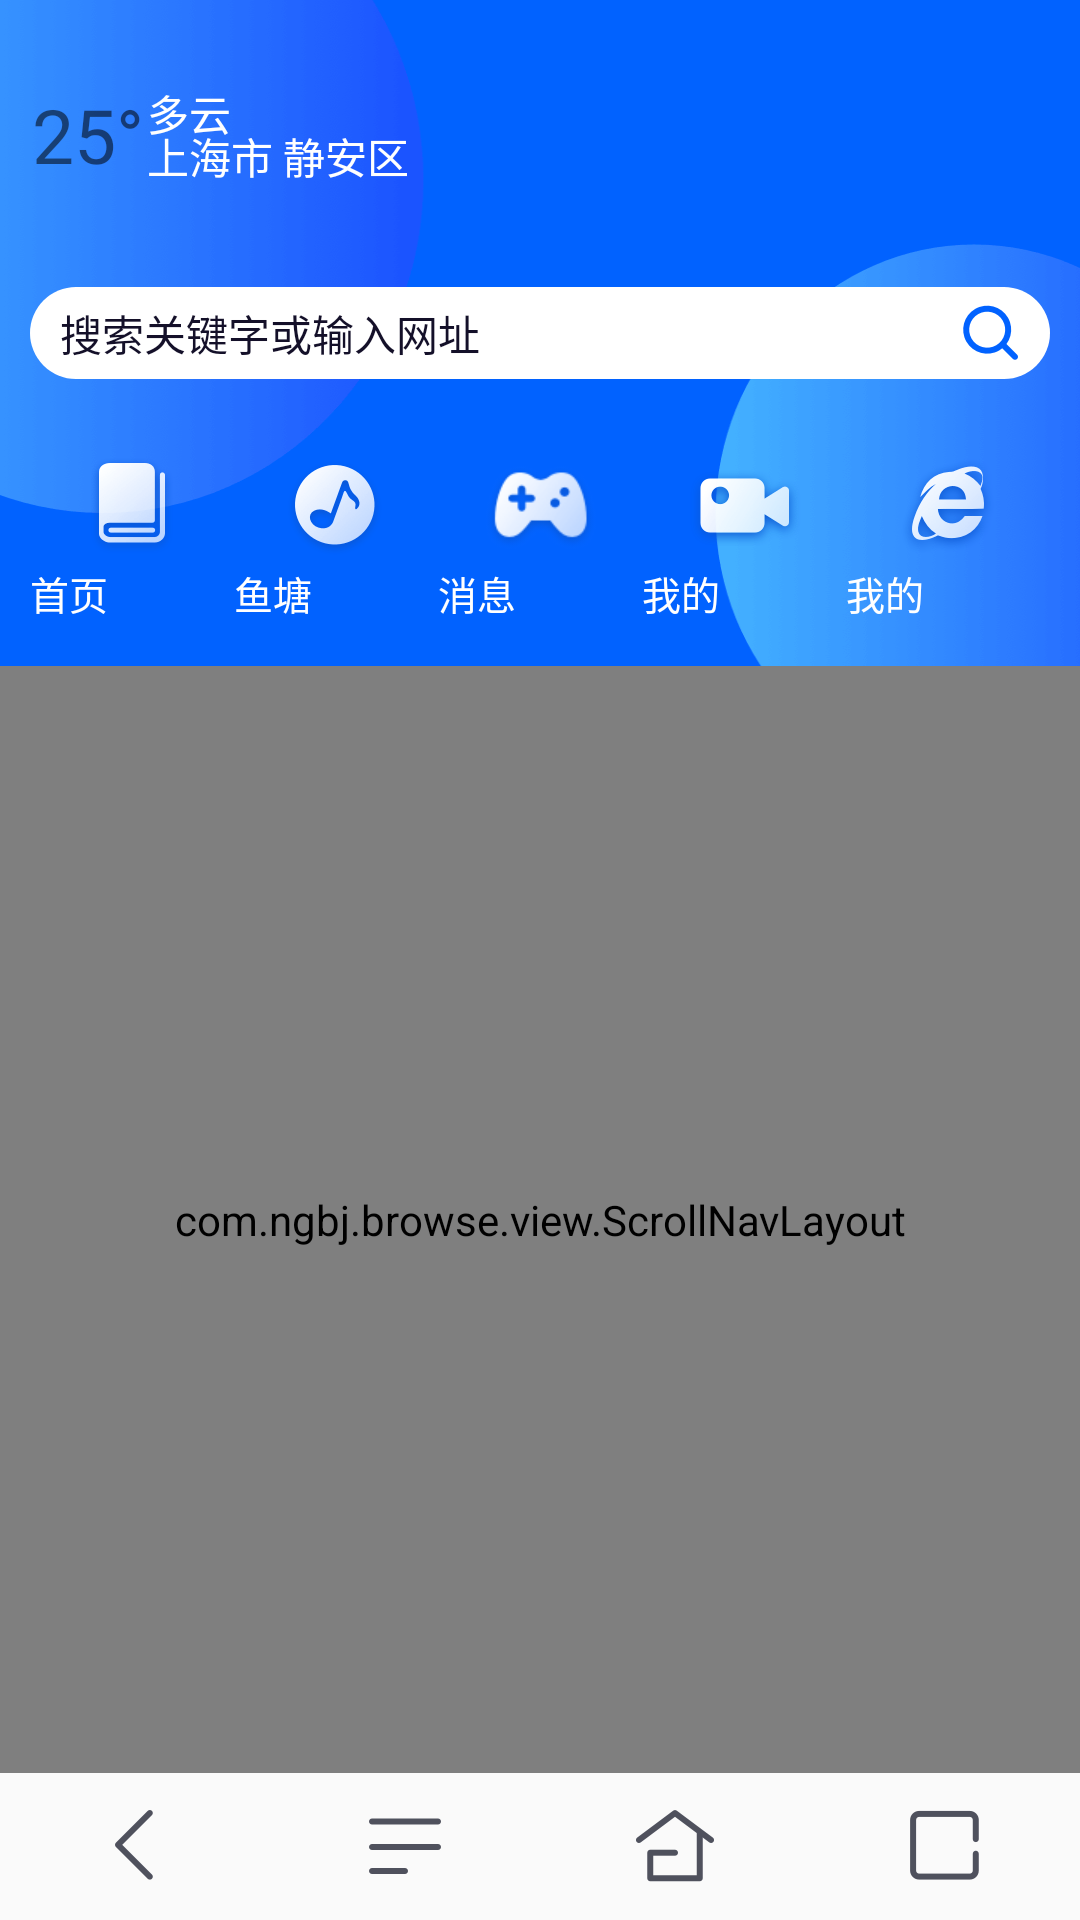

Named icons in this screenshot (1080x1920) and their bounding boxes, (x1, y1, x2, y2):
index bottom back: (115, 1810, 153, 1880)
index bottom home: (636, 1810, 714, 1882)
index bottom meun: (369, 1818, 441, 1874)
index bottom page: (910, 1811, 979, 1880)
